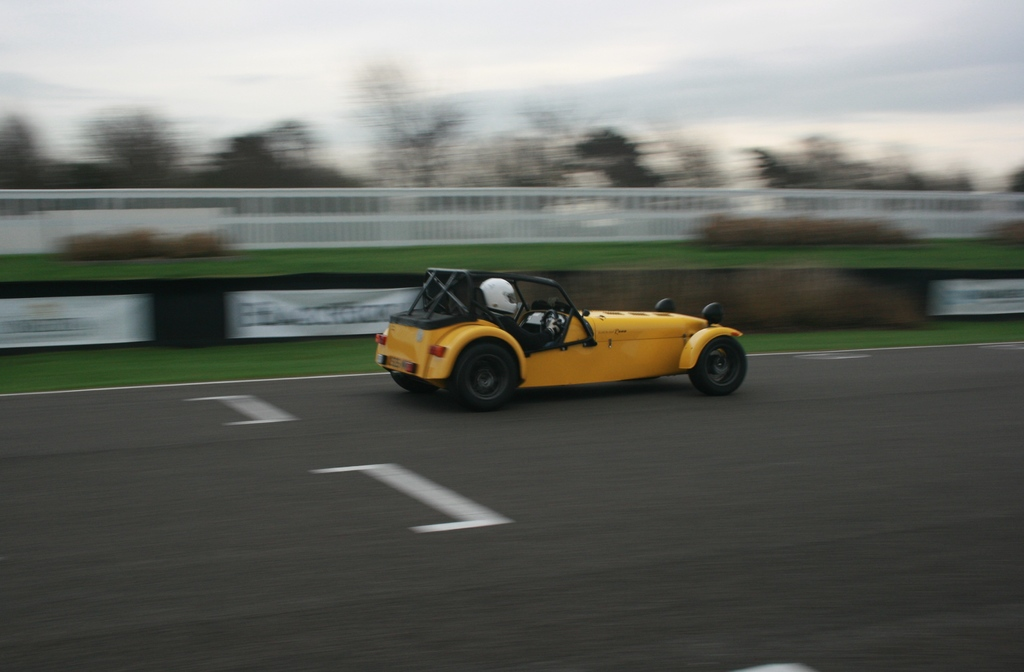Car: (374, 272, 746, 415)
